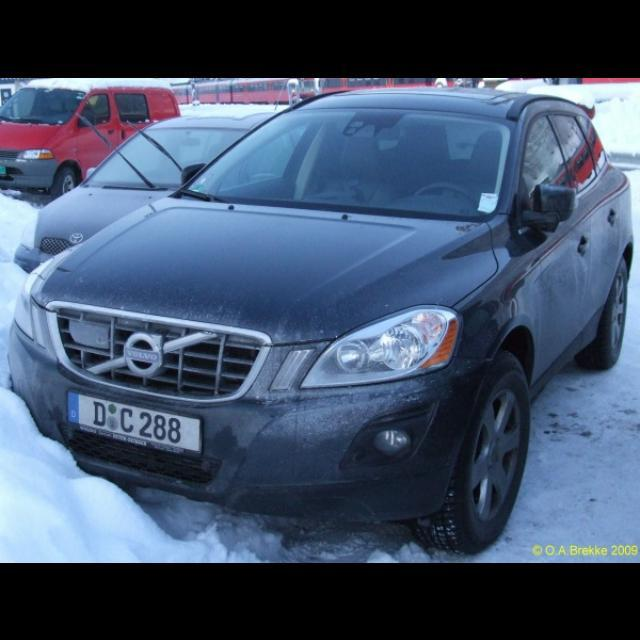license-plates: (67, 393, 201, 452)
